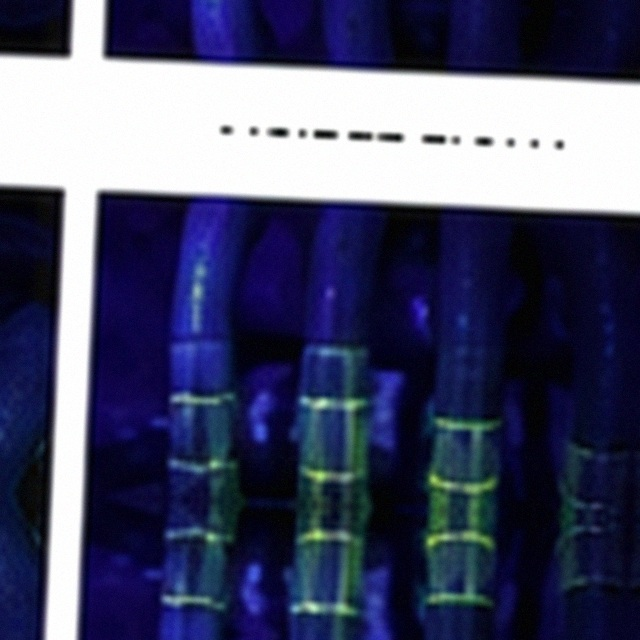hydraulic_oil_leak: (428, 418, 495, 580), (300, 428, 331, 501), (344, 382, 367, 477), (297, 509, 325, 585), (339, 536, 361, 597), (197, 443, 233, 470), (203, 530, 230, 557), (211, 393, 234, 405), (343, 349, 357, 360), (325, 397, 336, 409), (213, 478, 221, 492), (212, 509, 219, 524), (305, 398, 311, 406), (198, 397, 201, 404), (350, 367, 354, 372), (193, 531, 196, 535), (311, 409, 314, 413)
